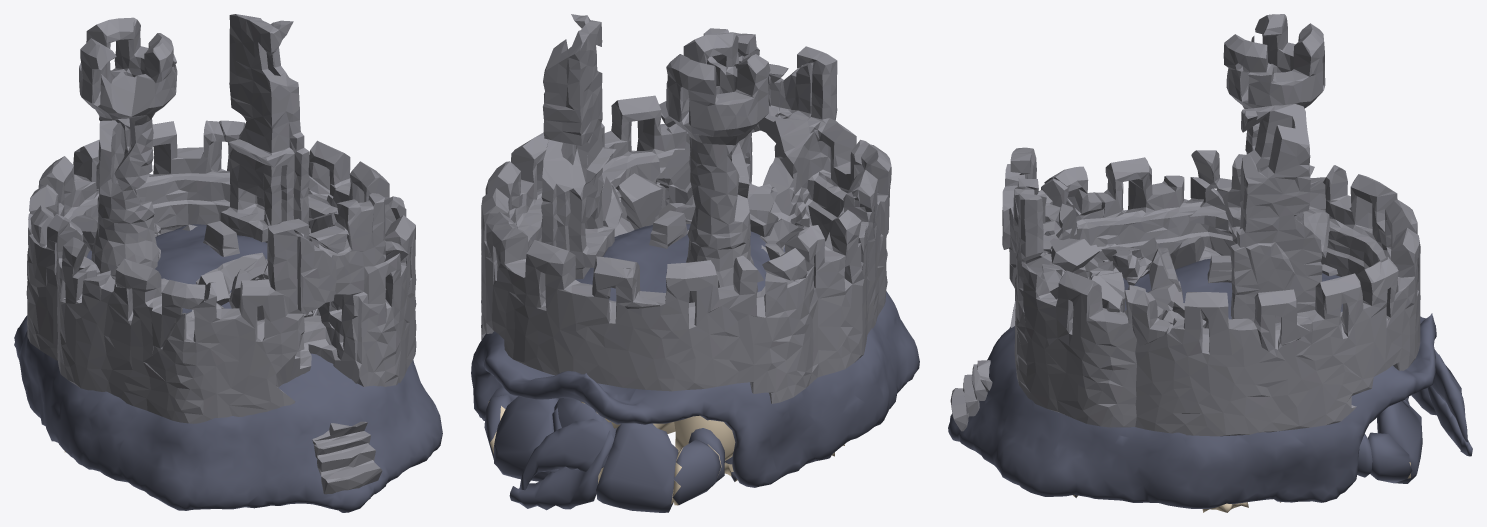
File: crab castle-reduced.glb
3 views of the same model, side by side, from view 1: azimuth 30°, elevation 25°; view 2: azimuth 150°, elevation 25°; view 3: azimuth 270°, elevation 25° (orthographic). The views are drawn at different scales.
Parts seen in each view (by area): view 1: reduced castle CELL FRACTURED, reduced shell; view 2: reduced castle CELL FRACTURED, reduced shell; view 3: reduced castle CELL FRACTURED, reduced shell.
Part boxes in pixels (box(x1,y1,x2,y2)): reduced castle CELL FRACTURED: box(26, 14, 416, 494); reduced shell: box(14, 224, 442, 512); reduced castle CELL FRACTURED: box(481, 14, 891, 403); reduced shell: box(471, 224, 919, 512); reduced castle CELL FRACTURED: box(950, 14, 1420, 436); reduced shell: box(948, 258, 1472, 512).
Size of the model in its own units: 59.93 by 66.39 by 80.71.
